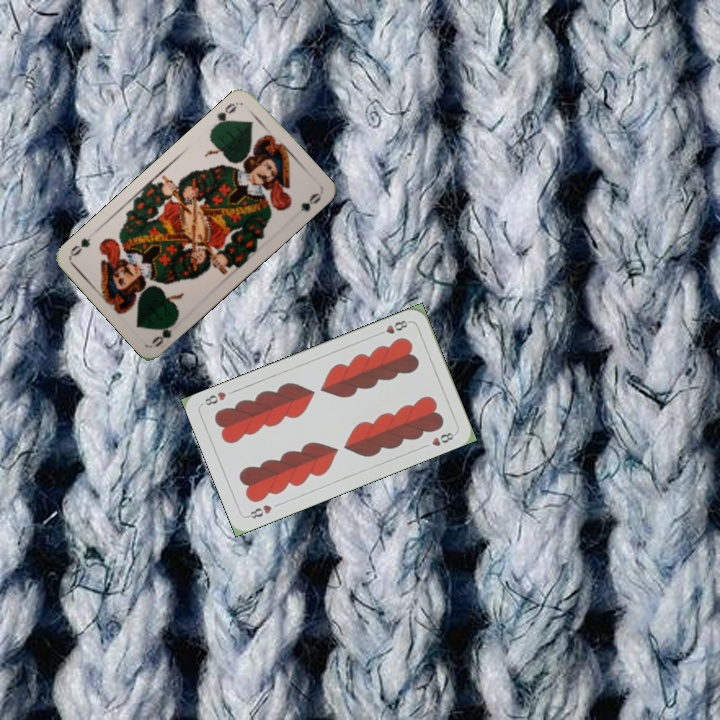GO: (148, 313, 180, 349), (209, 99, 240, 131)
H8: (373, 316, 412, 338), (243, 501, 274, 521)
